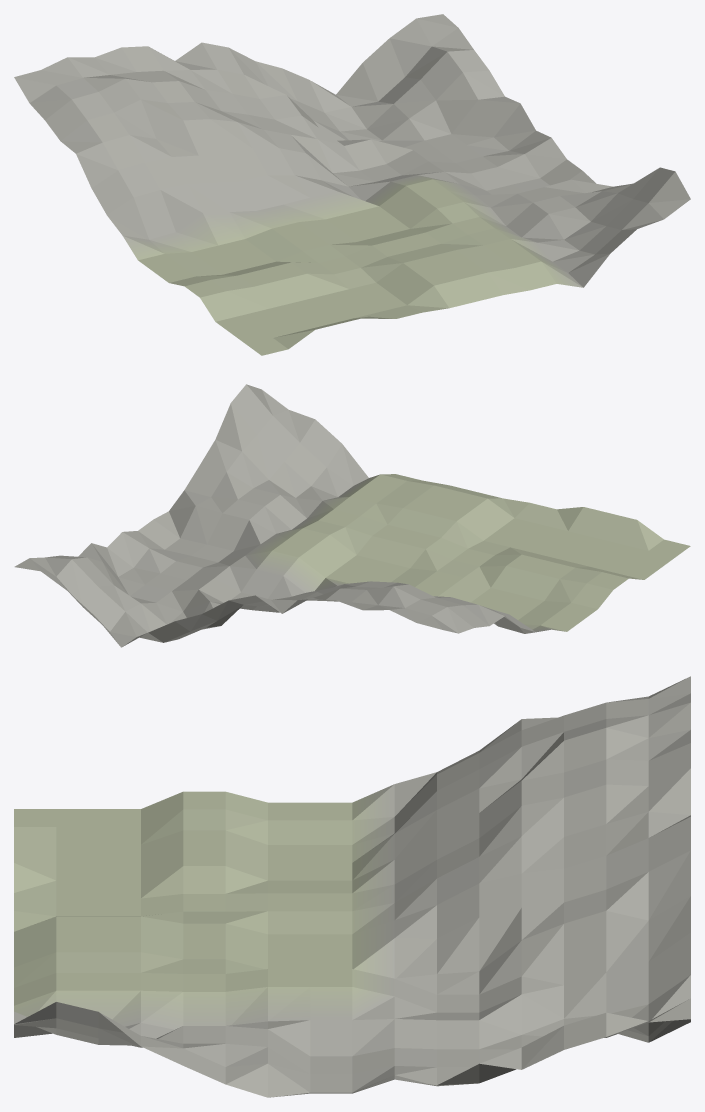
3 views of the same model, one above another, from view 1: azimuth 30°, elevation 25°; view 2: azimuth 150°, elevation 25°; view 3: azimuth 270°, elevation 25° (orthographic). The views are drawn at different scales.
Size of the model in its own units: 32 by 8.23 by 32.
